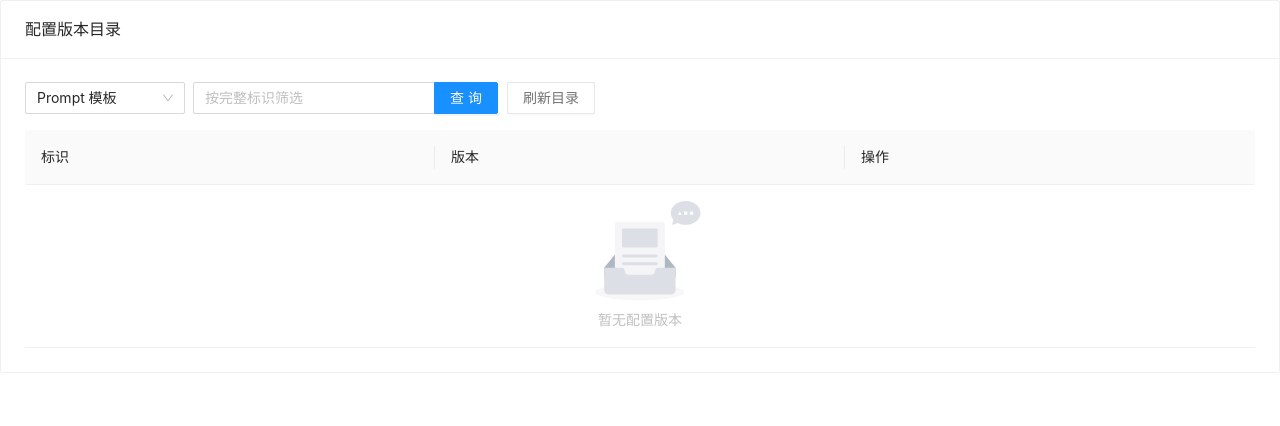
Test: shows imported Profile as unpublished and resets pagination when status changes
Press the mouse on the dropdown named "配置种类" at [105, 98], box [25,82,185,114]
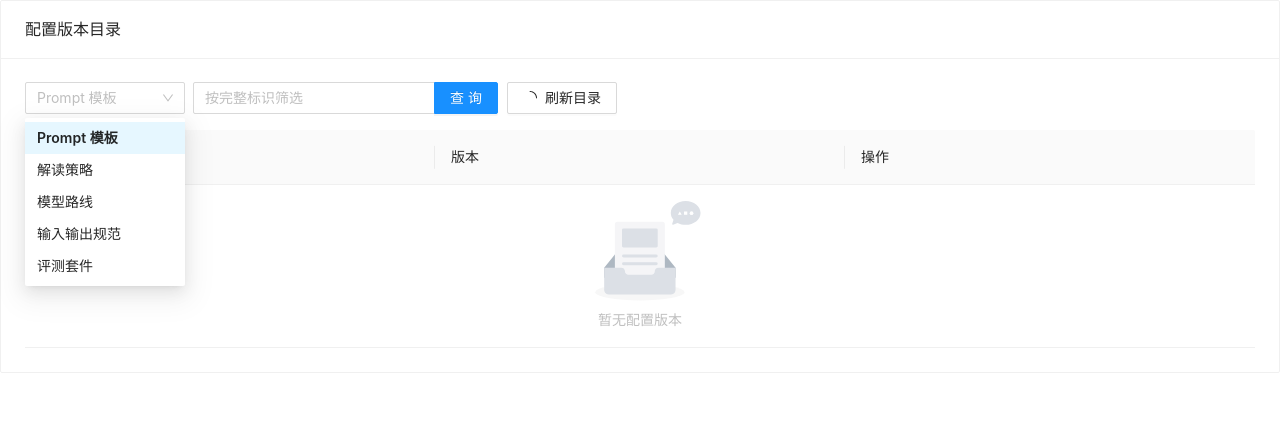
Click the text "解读策略" at [65, 170], box [37,161,93,178]
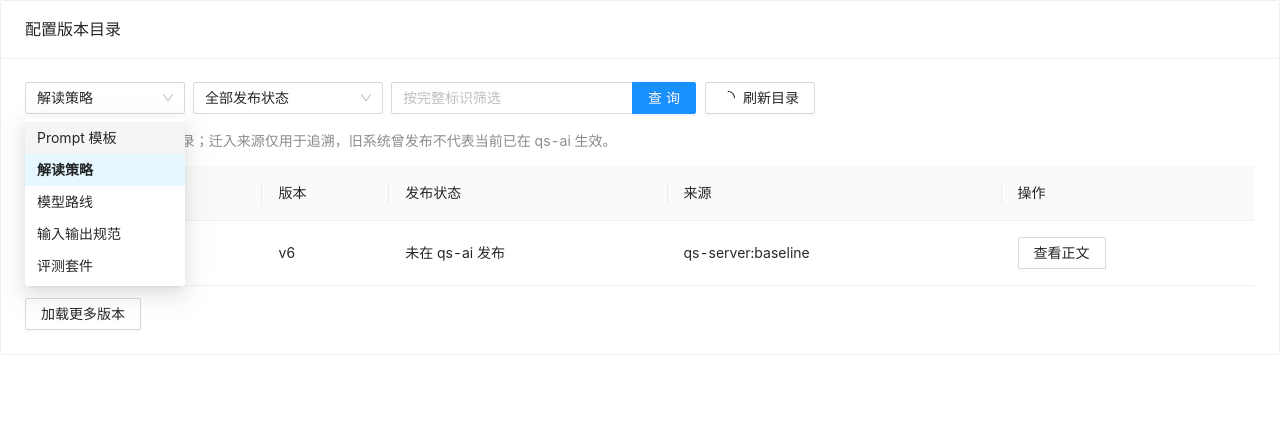
Now the text "qs-server:baseline" is shown, box [668,221,1002,286]
Now the text "未在 qs-ai 发布" is shown, box [389,221,668,286]
Now the text "加载更多版本" is shown, box [41,303,125,325]
Press the mouse on the dropdown named "Profile 发布状态" at [288, 98], box [193,82,383,114]
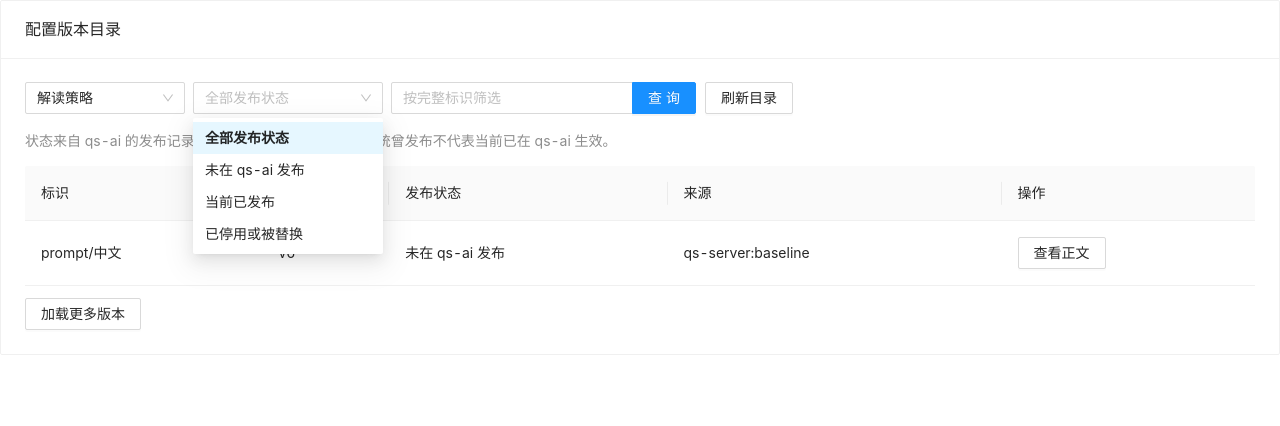
Click the text "当前已发布" at [240, 202], box [205,193,275,210]
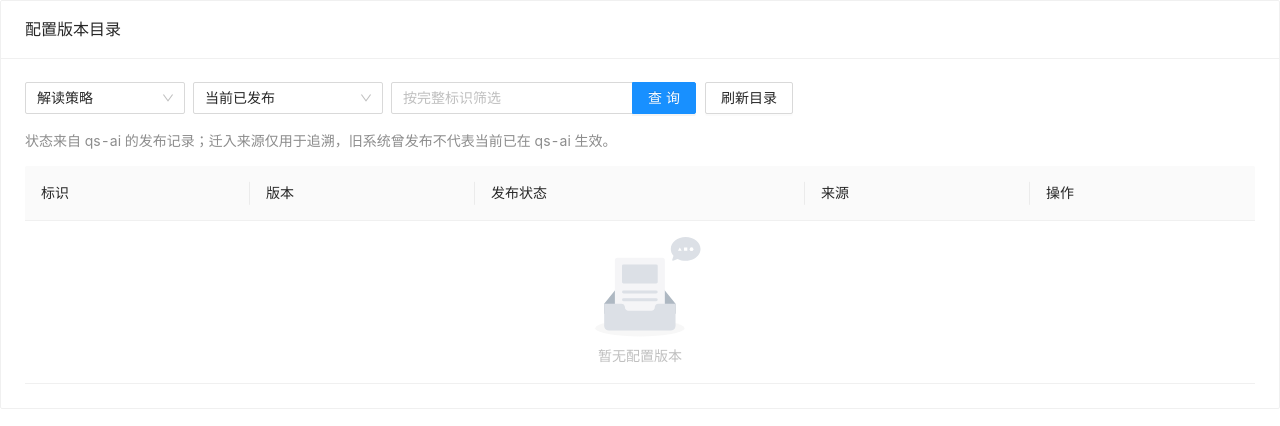
Now the button "加载更多版本" is gone
Now the text "qs-server:baseline" is gone
